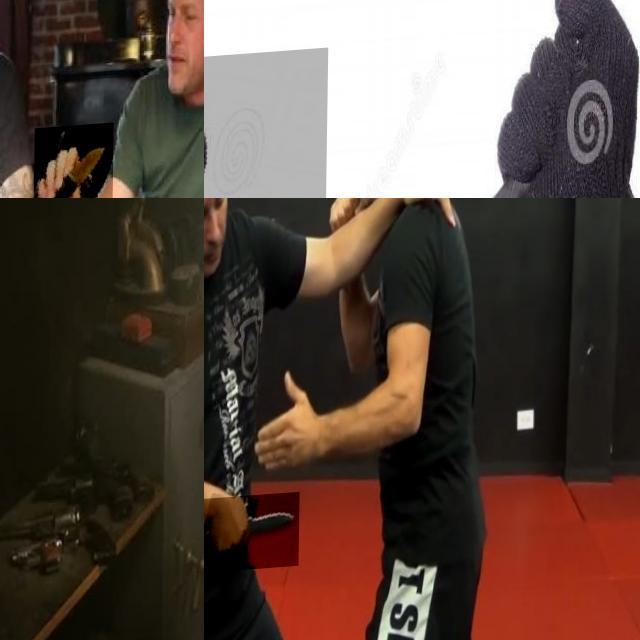-: (372, 31, 574, 198), (204, 52, 328, 198), (204, 496, 300, 576), (34, 128, 114, 198)
